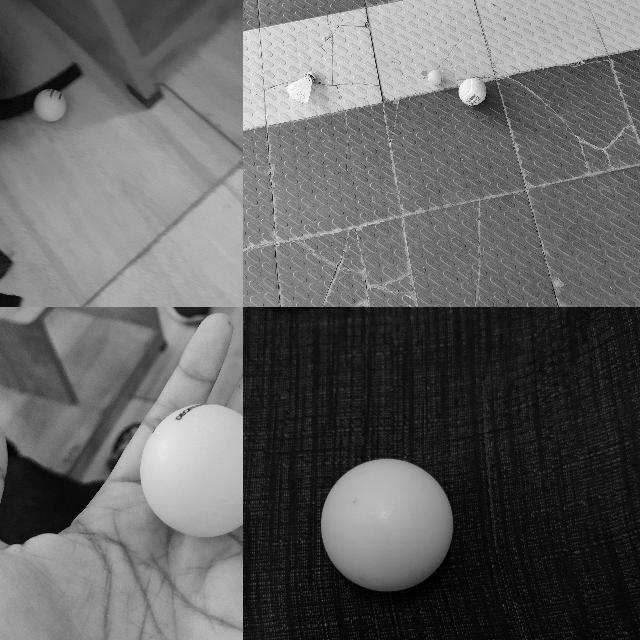ping-pong-ball: (321, 458, 454, 590), (140, 404, 242, 538), (34, 88, 66, 119), (427, 69, 443, 85)
